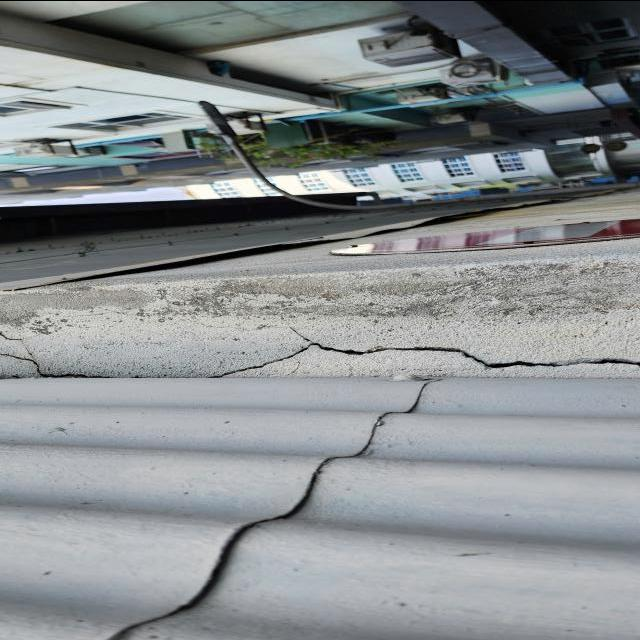SurfaceCrack: (1, 389, 461, 639)
